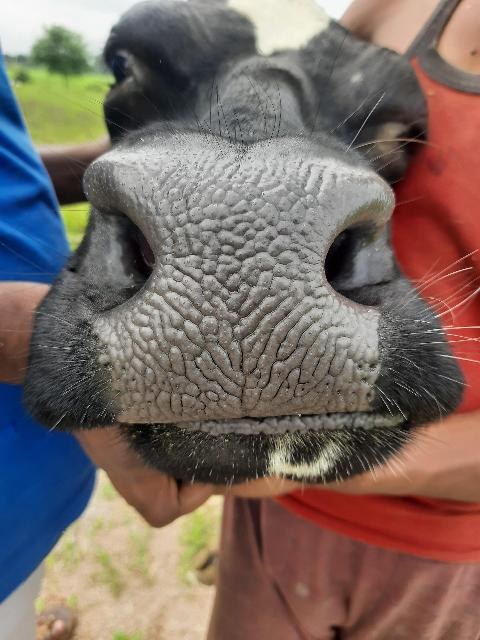Muzzle: (96, 157, 382, 419)
